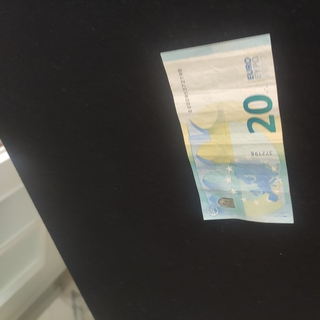20EUROBack: (159, 33, 294, 224)
